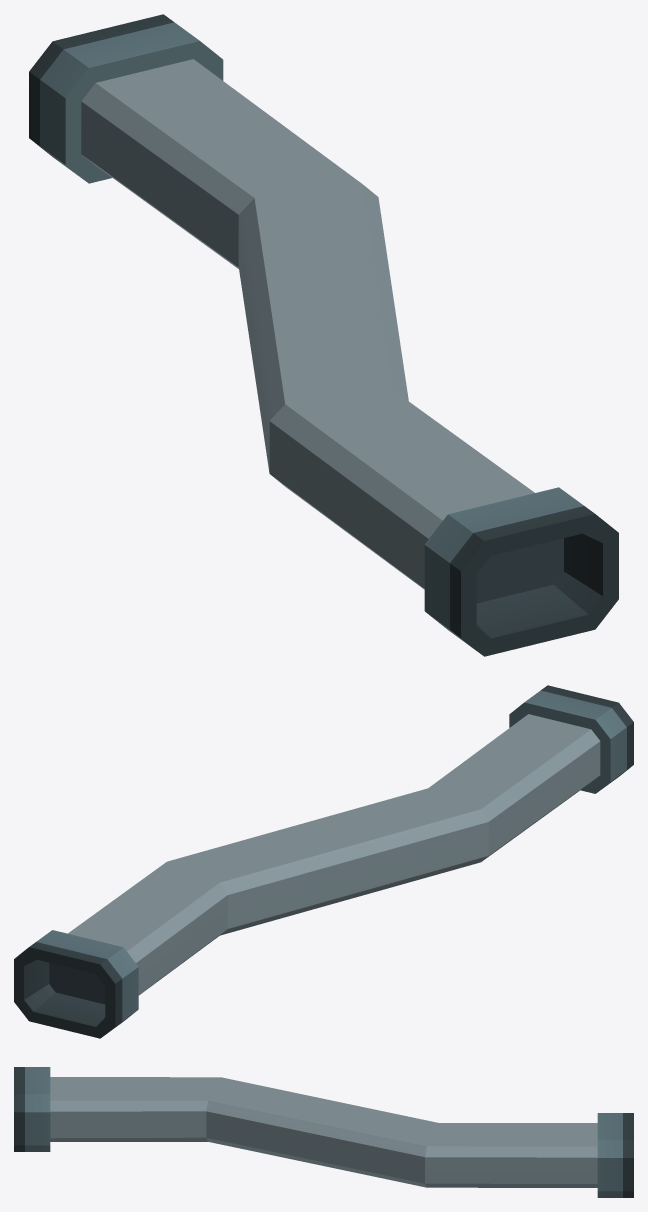
Rendered from Vent_tube_001.glb.
The picture shows the model from 3 angles, top to bottom: view 1: azimuth 30°, elevation 25°; view 2: azimuth 150°, elevation 25°; view 3: azimuth 270°, elevation 25°; orthographic projection. The views are drawn at different scales.
Parts seen in each view (by area): view 1: Vent_tube_001; view 2: Vent_tube_001; view 3: Vent_tube_001.
Part boxes in pixels (box(x1,y1,x2,y2)): Vent_tube_001: box(29, 14, 618, 656); Vent_tube_001: box(14, 685, 633, 1038); Vent_tube_001: box(14, 1067, 633, 1197).
Bounding box in the file's own units: 1.1 × 0.35 × 3.4.
Materials: 1 (1 with a texture image).
